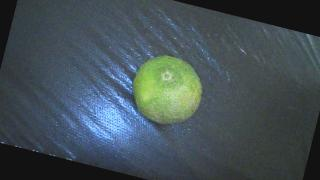DESECHO: (125, 49, 209, 132)
